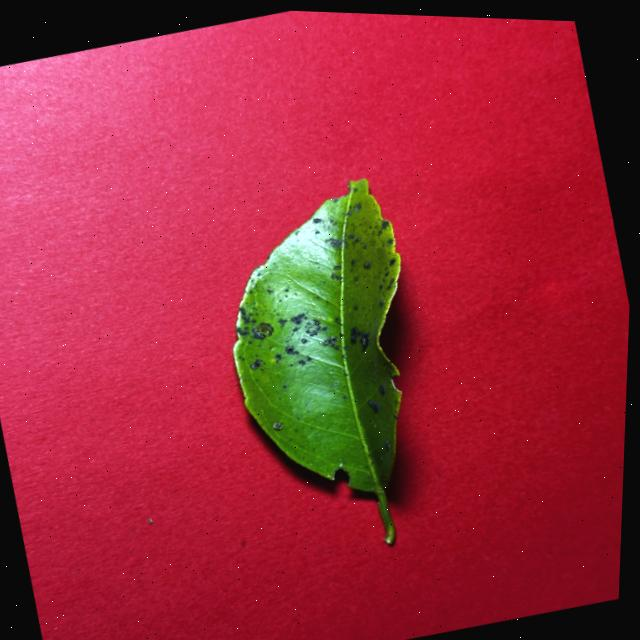sooty_mold: (232, 178, 400, 543)
